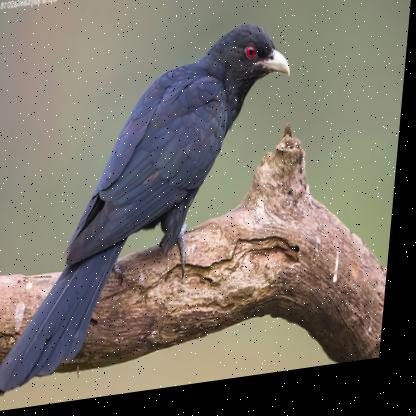Burung: (0, 26, 296, 399)
